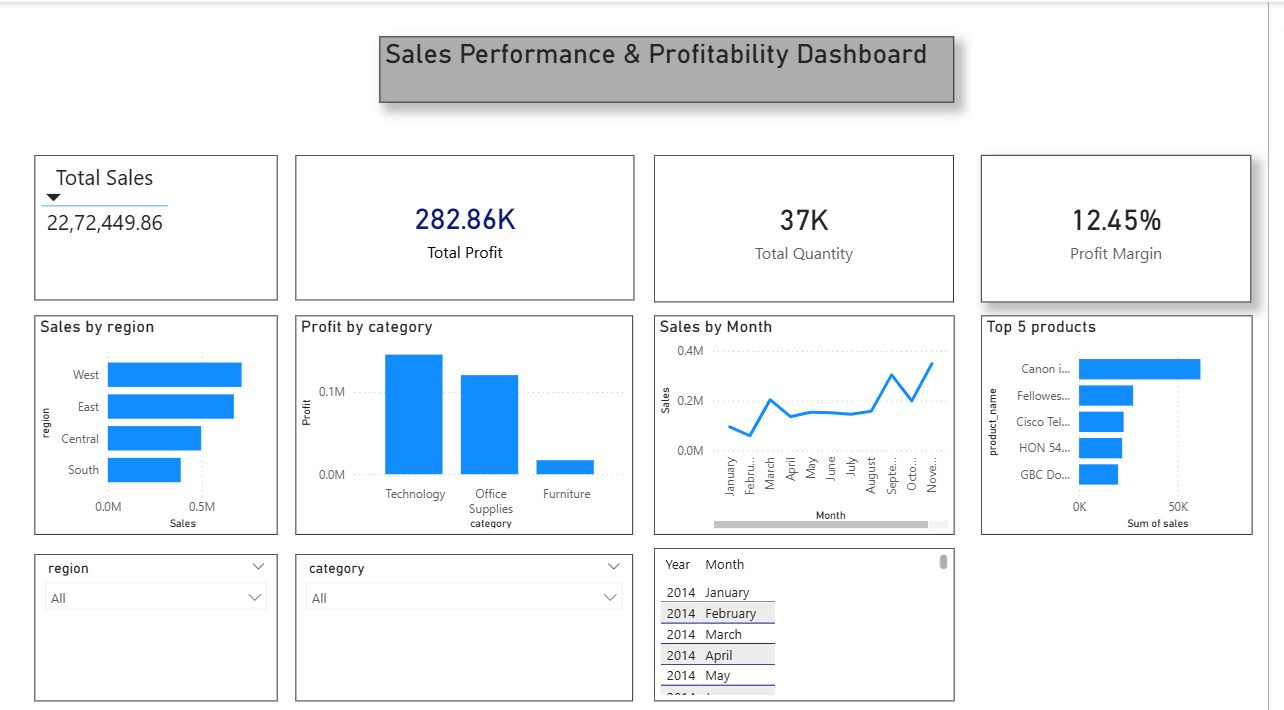

Layout of this report page (visuals, bound fields, positions):
{"tool":"powerbi","page":{"name":"Page 1","canvas":[1280,720],"ordinal":0},"visuals":[{"type":"tableEx","fields":{"Values":["Sum(sales_project superstore.sales)"]},"box":[34.8,154.4,245.3,146.9],"z":0},{"type":"card","fields":{"Values":["Sum(sales_project superstore.profit)"]},"box":[298.3,154.4,342.2,146.9],"z":1000},{"type":"card","fields":{"Values":["Sum(sales_project superstore.quantity)"]},"box":[660.2,154.4,302.8,148.4],"z":2000},{"type":"clusteredBarChart","fields":{"Category":["sales_project superstore.region"],"Y":["Sum(sales_project superstore.sales)"]},"box":[34.8,316.7,245.5,221.2],"z":3000},{"type":"clusteredColumnChart","fields":{"Category":["sales_project superstore.category"],"Y":["Sum(sales_project superstore.profit)"]},"box":[298.5,316.7,340.9,221.2],"z":4000},{"type":"lineChart","fields":{"Y":["Sum(sales_project superstore.sales)"],"Category":["sales_project superstore.order_date.Variation.Date Hierarchy.Month"]},"box":[660.6,316.7,303,221.2],"z":5000},{"type":"slicer","fields":{"Values":["sales_project superstore.region"]},"box":[34.8,557.6,245.5,148.5],"z":6000},{"type":"tableEx","fields":{"Values":["sales_project superstore.order_date.Variation.Date Hierarchy.Year","sales_project superstore.order_date.Variation.Date Hierarchy.Month"]},"box":[660.6,551.5,303,154.5],"z":7000},{"type":"card","fields":{"Values":["sales_project superstore.Profit Margin"]},"box":[990.3,154.4,272.6,148.4],"z":8000},{"type":"barChart","title":"Top 5 products","fields":{"Category":["sales_project superstore.product_name"],"Y":["Sum(sales_project superstore.sales)"]},"box":[990.3,316.5,274.1,221.1],"z":9000},{"type":"slicer","fields":{"Values":["sales_project superstore.category"]},"box":[298.5,557.6,340.9,148.5],"z":10000},{"type":"textbox","title":"Sales Performance & Profitability Dashboard","box":[383.1,34.8,579.9,66.6],"z":11000}]}

Visuals, with their boxes in screenshot pixels (x1, y1, x2, y2), scaled from the page's 1280x720 canvas onto the 1284x710 screenshot:
tableEx - Sum(sales_project superstore.sales): bbox(35, 152, 281, 297)
card - Sum(sales_project superstore.profit): bbox(299, 152, 643, 297)
card - Sum(sales_project superstore.quantity): bbox(662, 152, 966, 299)
clusteredBarChart - sales_project superstore.region x Sum(sales_project superstore.sales): bbox(35, 312, 281, 530)
clusteredColumnChart - sales_project superstore.category x Sum(sales_project superstore.profit): bbox(299, 312, 641, 530)
lineChart - Sum(sales_project superstore.sales) x sales_project superstore.order_date.Variation.Date Hierarchy.Month: bbox(663, 312, 967, 530)
slicer - sales_project superstore.region: bbox(35, 550, 281, 696)
tableEx - sales_project superstore.order_date.Variation.Date Hierarchy.Year x sales_project superstore.order_date.Variation.Date Hierarchy.Month: bbox(663, 544, 967, 696)
card - sales_project superstore.Profit Margin: bbox(993, 152, 1267, 299)
"Top 5 products" barChart: bbox(993, 312, 1268, 530)
slicer - sales_project superstore.category: bbox(299, 550, 641, 696)
"Sales Performance & Profitability Dashboard" textbox: bbox(384, 34, 966, 100)
